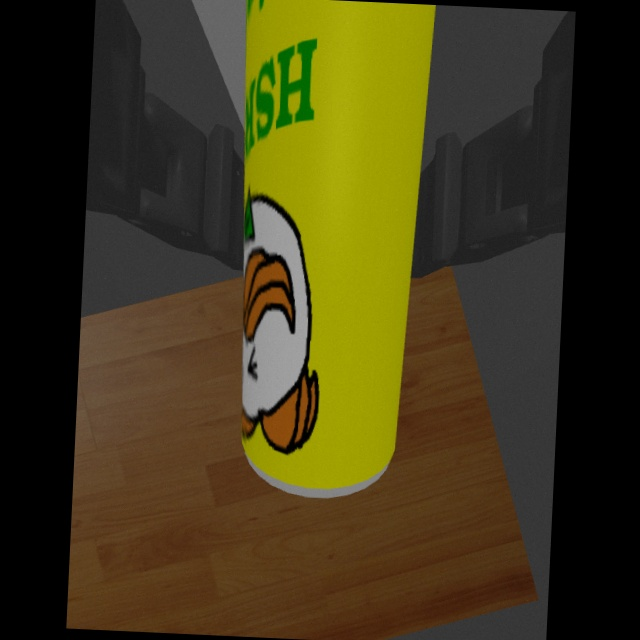chipsdose_gelb: (240, 1, 436, 499)
